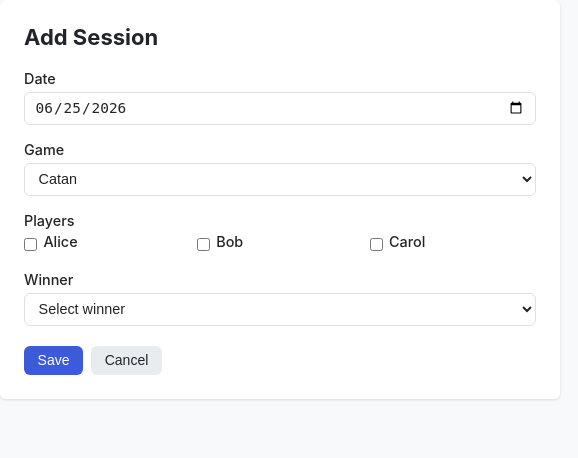
Test: SessionForm › shows validation error when no players checked
This screenshot has width=578, height=458.
Step 1. Click the button "Save" → {"x": 54, "y": 360}, box [24,346,83,374]
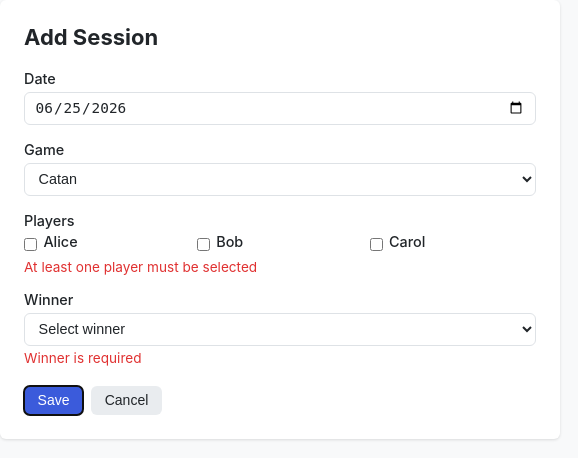
Expected: the text "At least one player must be selected" is shown, [24,259,257,275]
